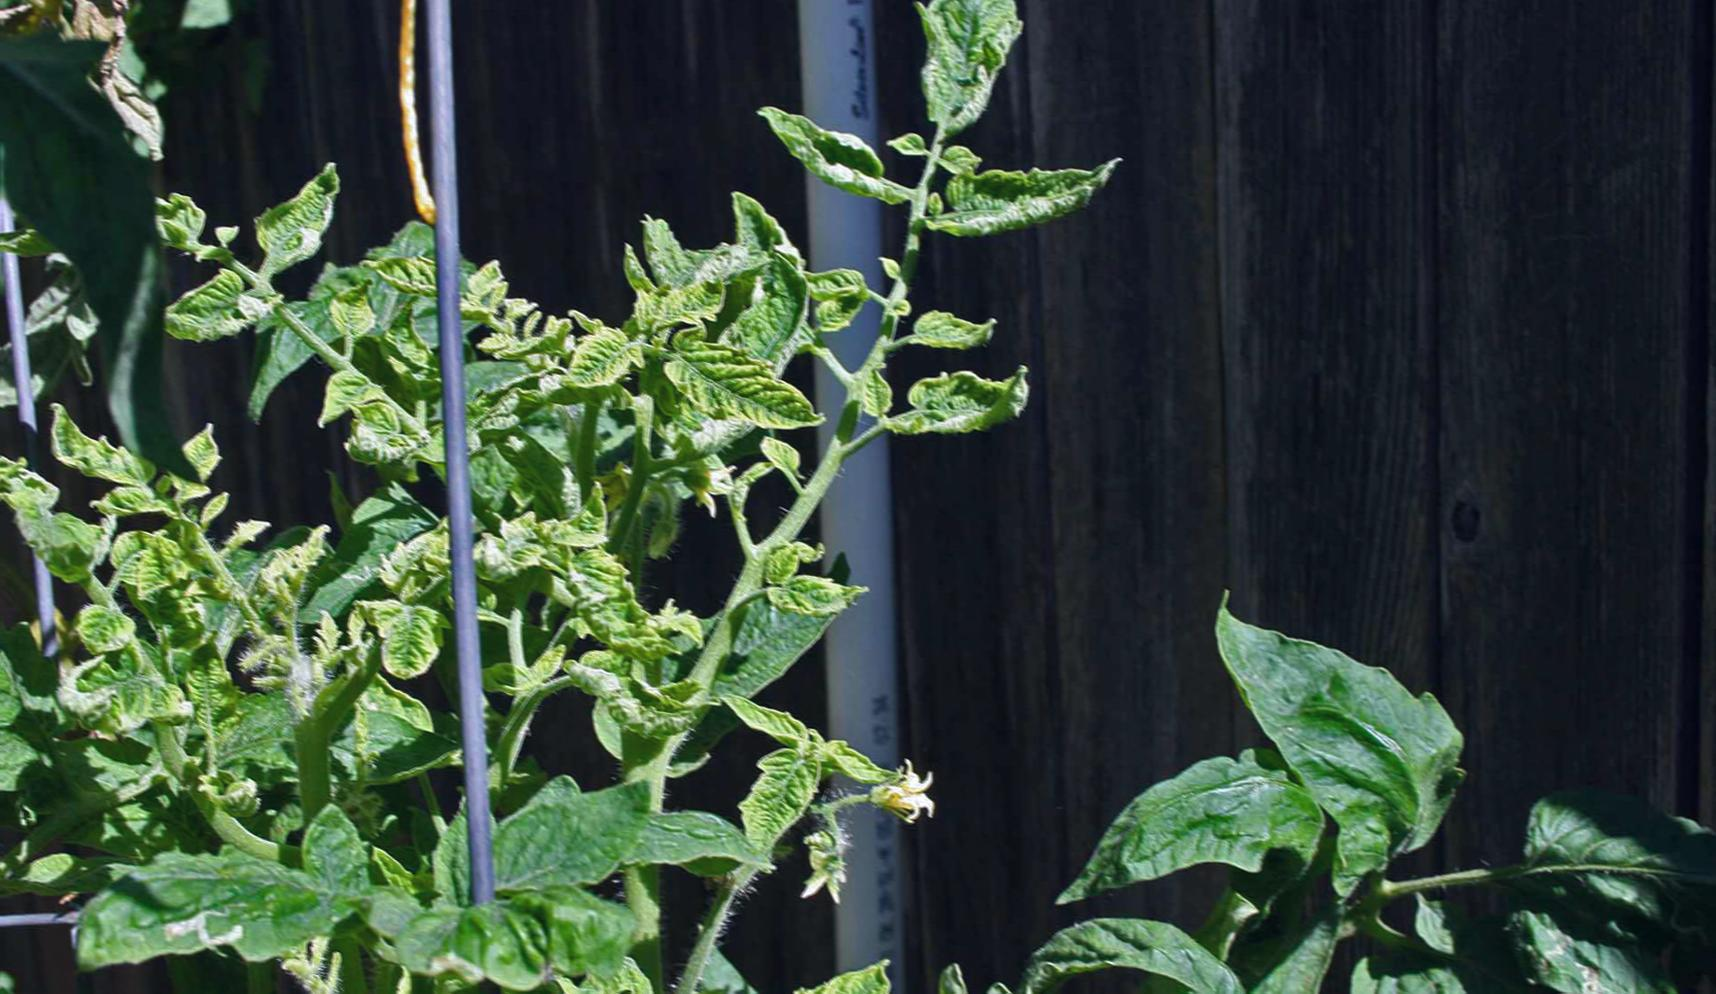Tomato leaf yellow virus: (48, 816, 380, 982), (434, 768, 668, 912), (517, 489, 674, 660), (913, 147, 1146, 257), (867, 359, 1066, 458), (645, 334, 820, 443), (717, 727, 848, 859), (904, 0, 1018, 134), (43, 383, 161, 503), (253, 157, 351, 277), (61, 653, 197, 736), (758, 546, 891, 624), (548, 315, 656, 406), (622, 263, 740, 341), (360, 594, 448, 691), (104, 521, 207, 599), (158, 272, 255, 351), (900, 299, 1014, 359), (71, 603, 148, 665)
